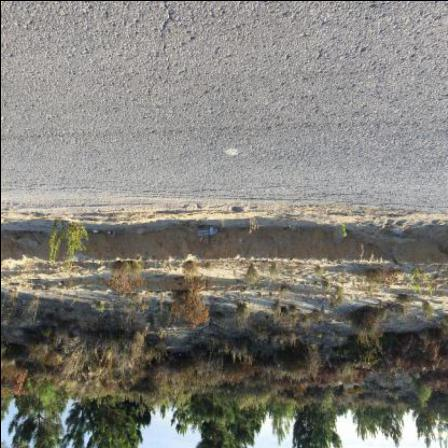Bottle: (198, 226, 220, 236), (391, 231, 405, 236)
Plastic bag - wrapper: (108, 230, 116, 236)
Unlabeled litter: (93, 230, 99, 233)
